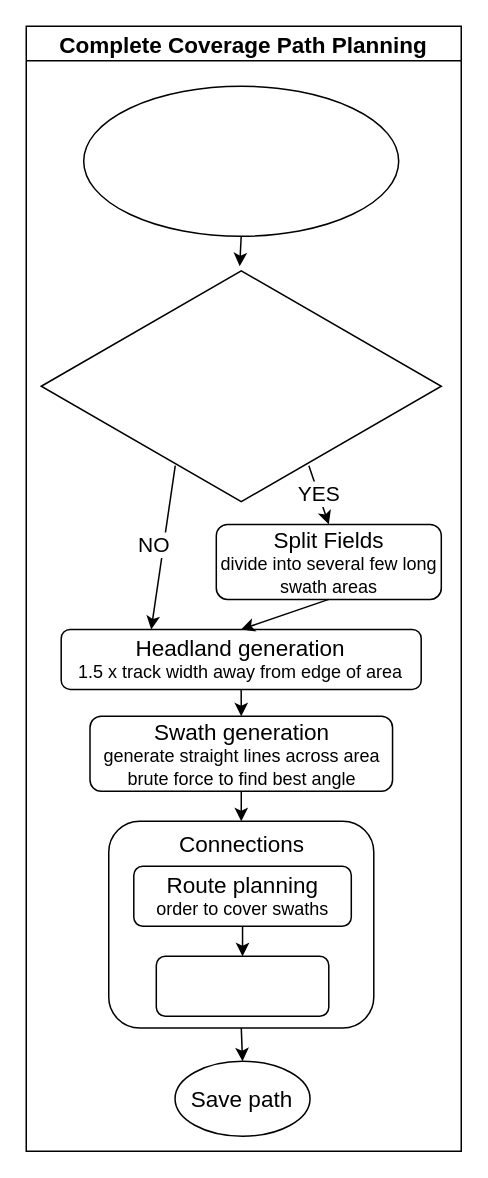
Image size: 488x1178. Some labels were removed from this diagram. The centre of each missing label's shape, as x and y in pixels:
"Area needs decomposition area would require many short swaths and some long ones" belongs at pixel 240 385.
"Path planning turning method" belongs at pixel 242 985.
"Robot Configuration Track width Working width turning radius" belongs at pixel 240 160.
